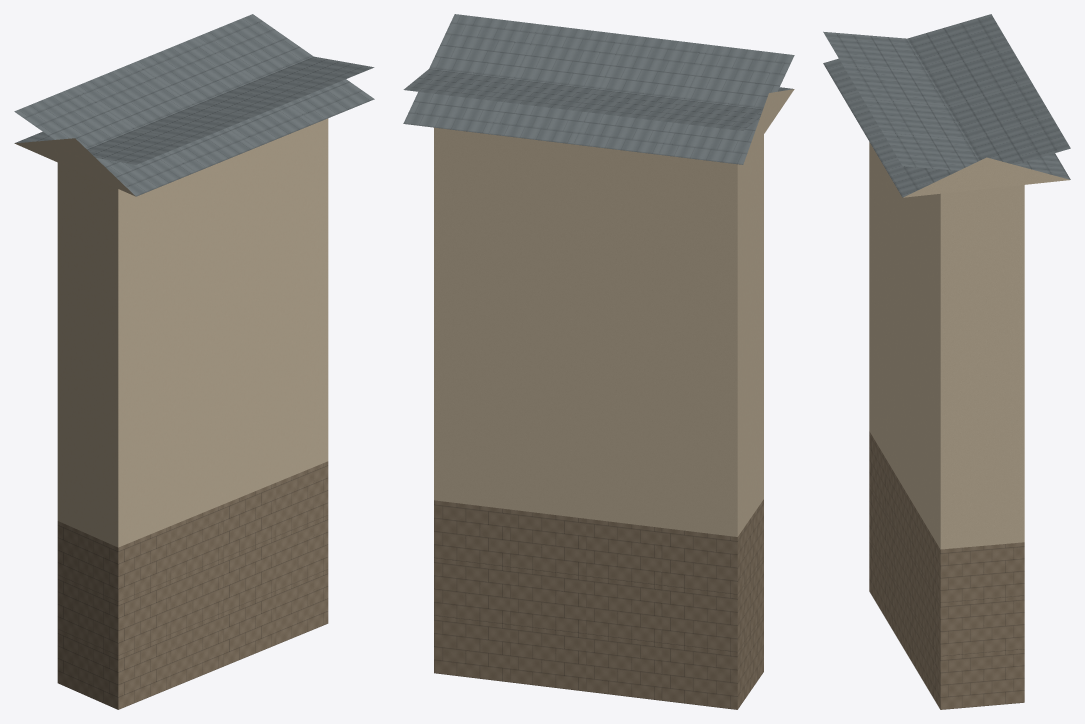
The model's file is bld_c-2_-3_559.gltf.
3 renders of one model, left to right at view 1: azimuth 30°, elevation 25°; view 2: azimuth 150°, elevation 25°; view 3: azimuth 270°, elevation 25°, orthographic. The views are drawn at different scales.
Parts seen in each view (by area): view 1: bld_c-2_-3_559; view 2: bld_c-2_-3_559; view 3: bld_c-2_-3_559.
Part boxes in pixels (box(x1,y1,x2,y2)): bld_c-2_-3_559: box(14, 14, 374, 709); bld_c-2_-3_559: box(403, 14, 794, 709); bld_c-2_-3_559: box(823, 14, 1070, 709).
Size of the model in its own units: 10.38 by 17.7 by 7.14.
4 materials, 4 textured.
